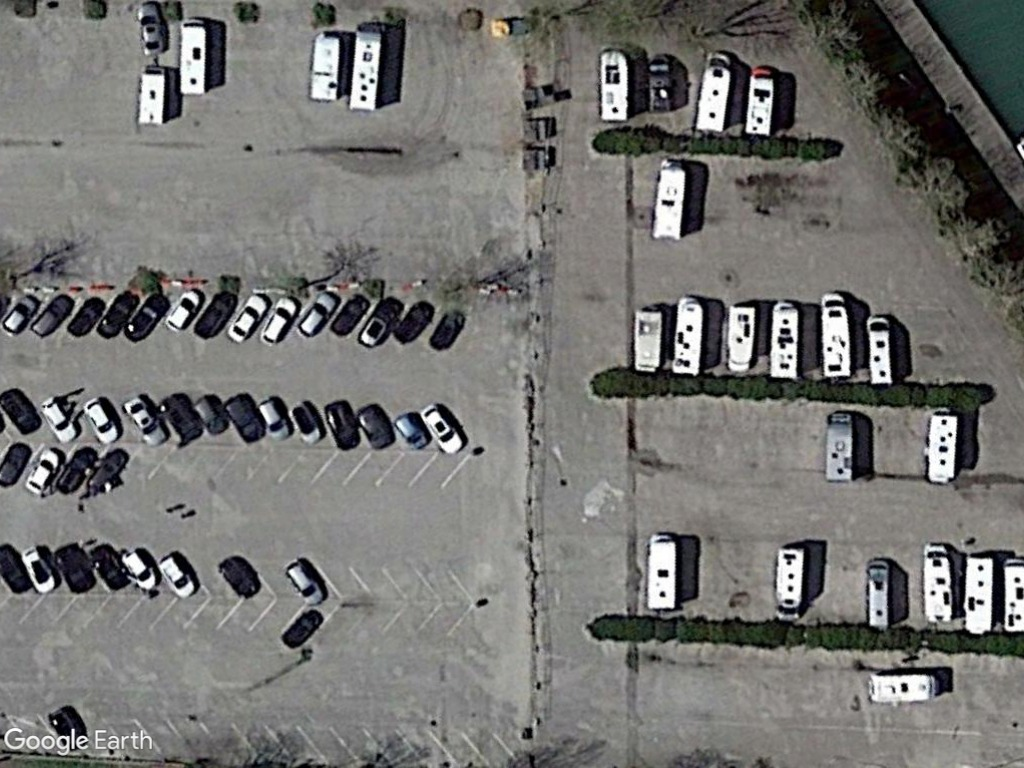bus: (817, 291, 857, 382), (920, 540, 957, 631), (693, 54, 733, 137), (649, 159, 688, 244), (765, 297, 801, 388), (176, 14, 214, 100), (644, 530, 682, 614), (671, 292, 706, 382), (350, 21, 384, 113), (960, 551, 995, 639), (923, 408, 961, 488), (772, 542, 807, 625), (304, 30, 342, 105), (596, 46, 631, 125), (724, 300, 759, 379), (740, 64, 776, 139), (863, 315, 897, 390), (865, 672, 938, 706), (824, 411, 856, 488), (136, 63, 168, 130)
car: (417, 400, 468, 457), (28, 289, 79, 344), (355, 296, 406, 351), (280, 557, 329, 608), (256, 292, 299, 349), (120, 394, 169, 444), (294, 288, 342, 339), (79, 395, 121, 450), (163, 285, 207, 336), (17, 543, 59, 596), (226, 293, 268, 345), (154, 552, 198, 600), (38, 393, 79, 444), (132, 1, 168, 59), (251, 395, 291, 447), (0, 291, 41, 340), (191, 394, 232, 442), (119, 546, 159, 595), (288, 395, 325, 447), (25, 447, 62, 498), (391, 410, 428, 454)
other: (629, 300, 667, 381)
van: (861, 555, 896, 632)
